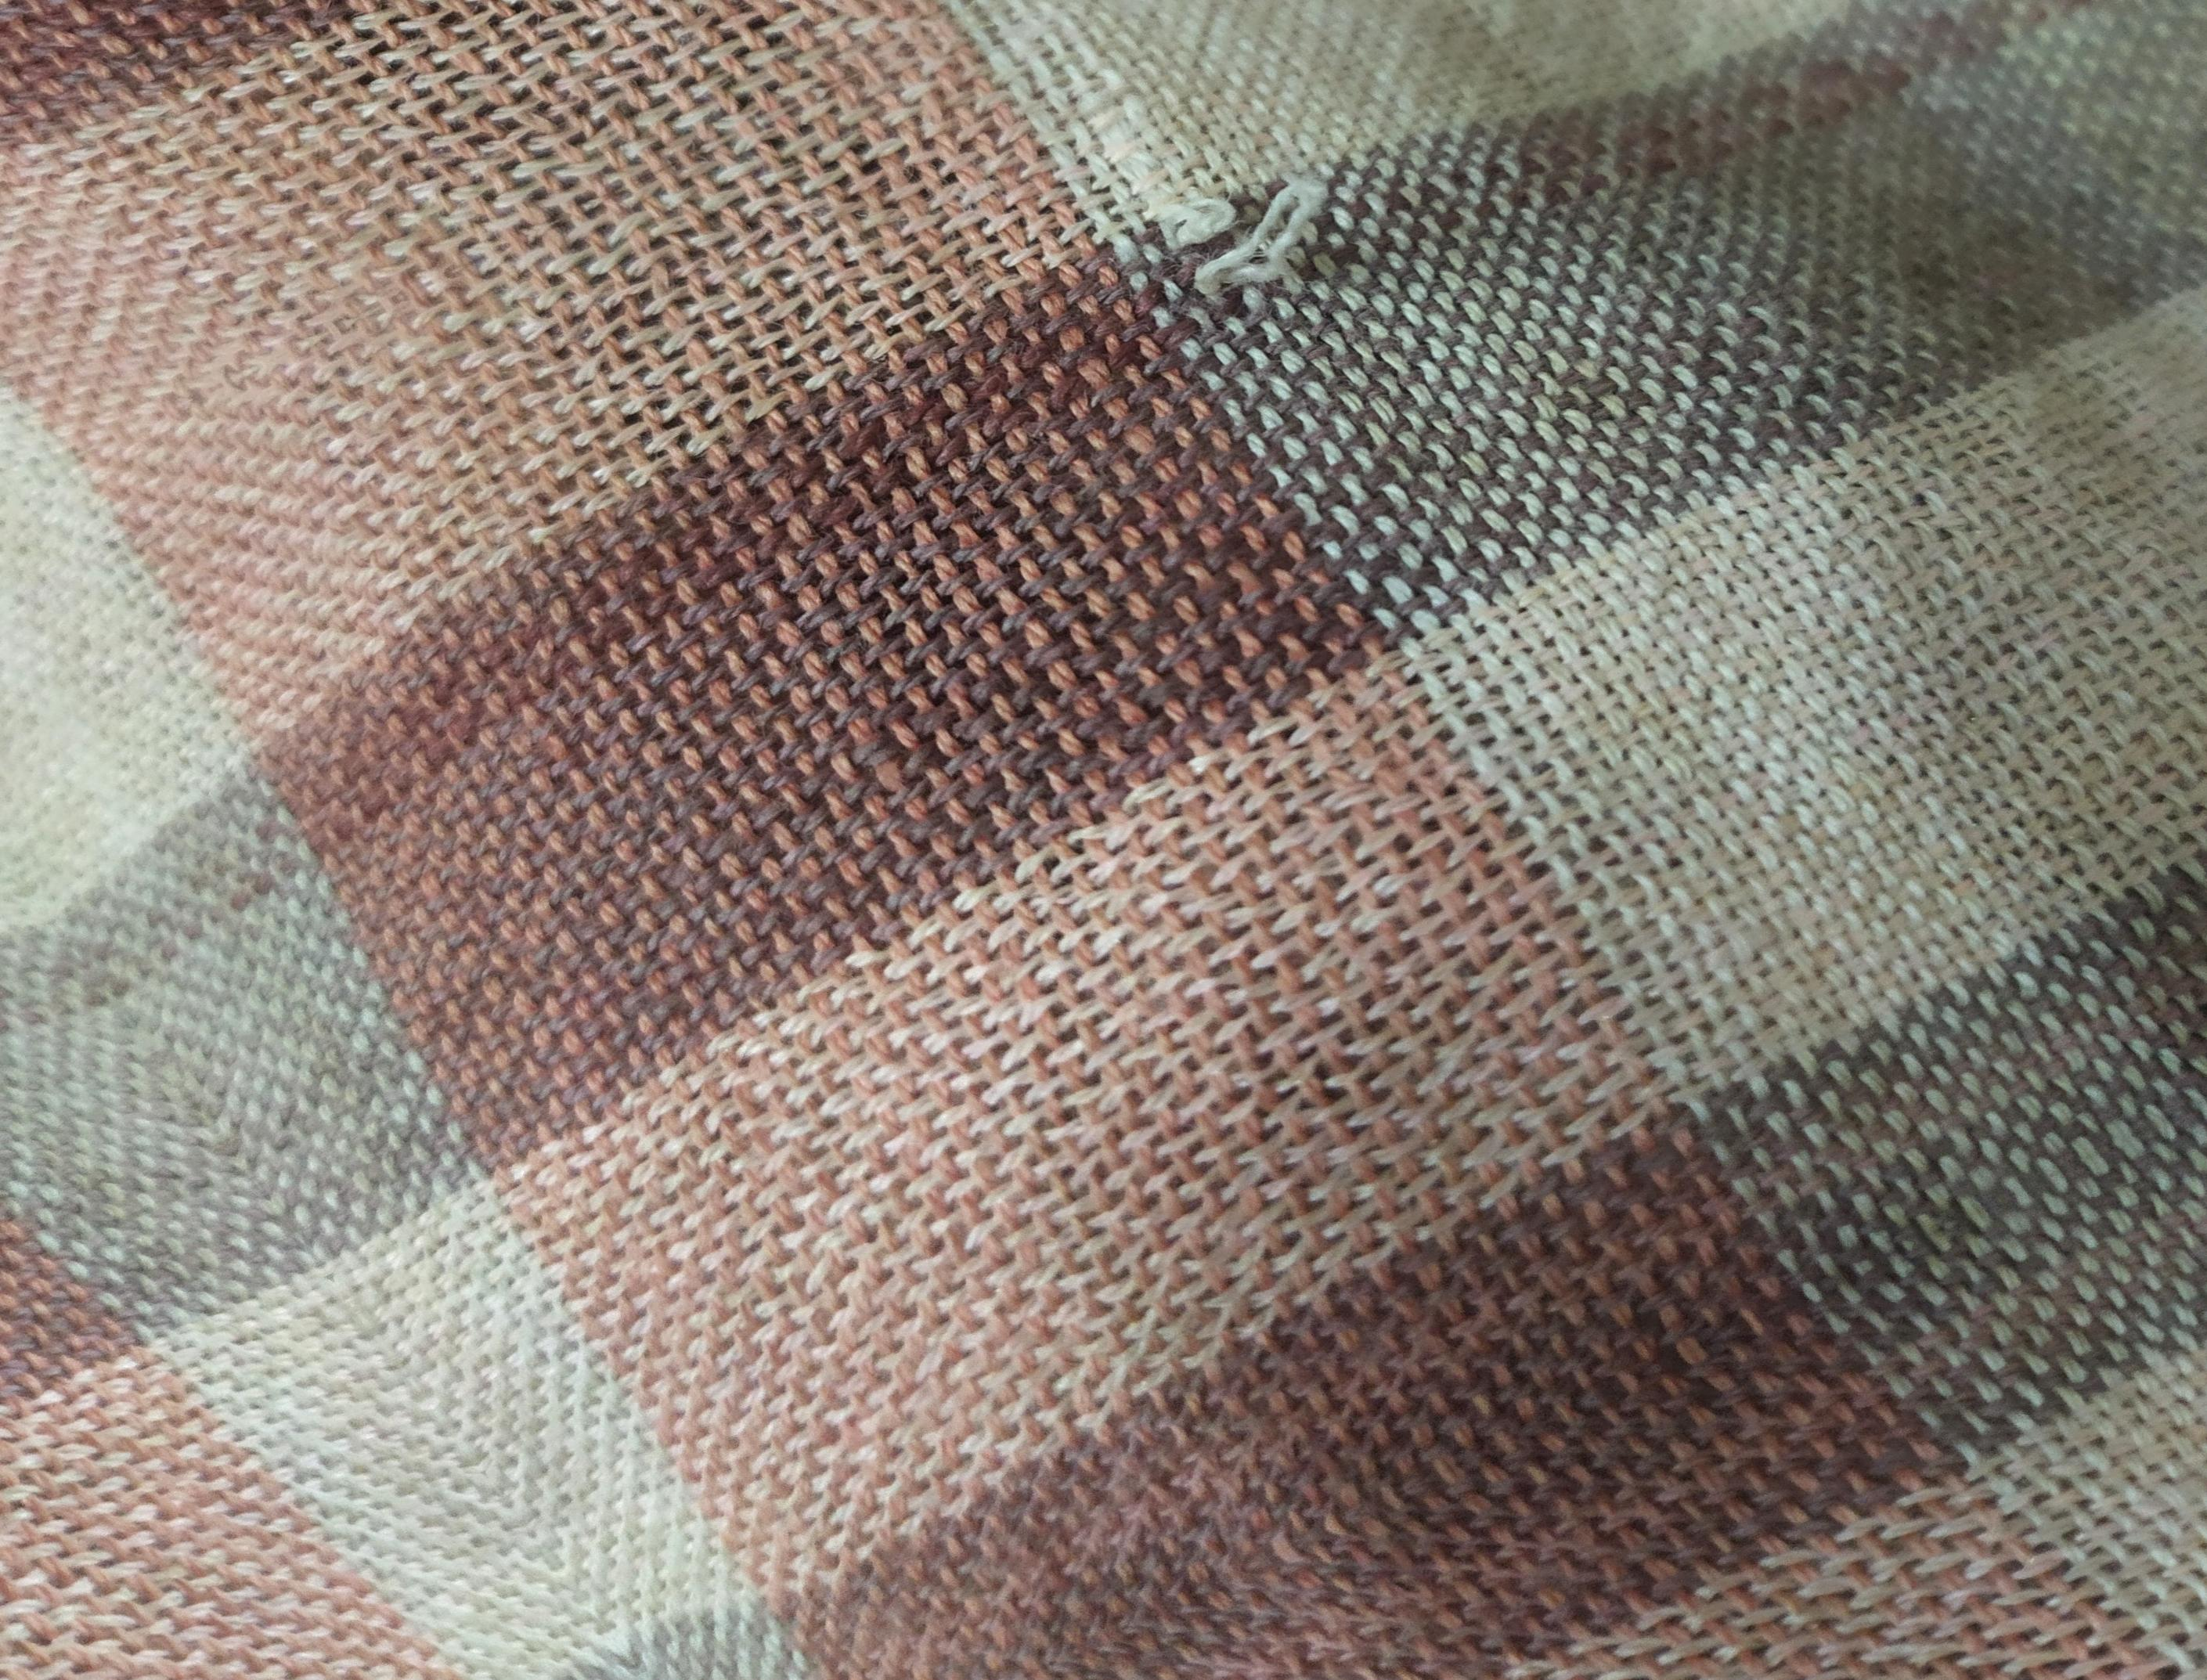snag: (1152, 155, 1381, 312)
